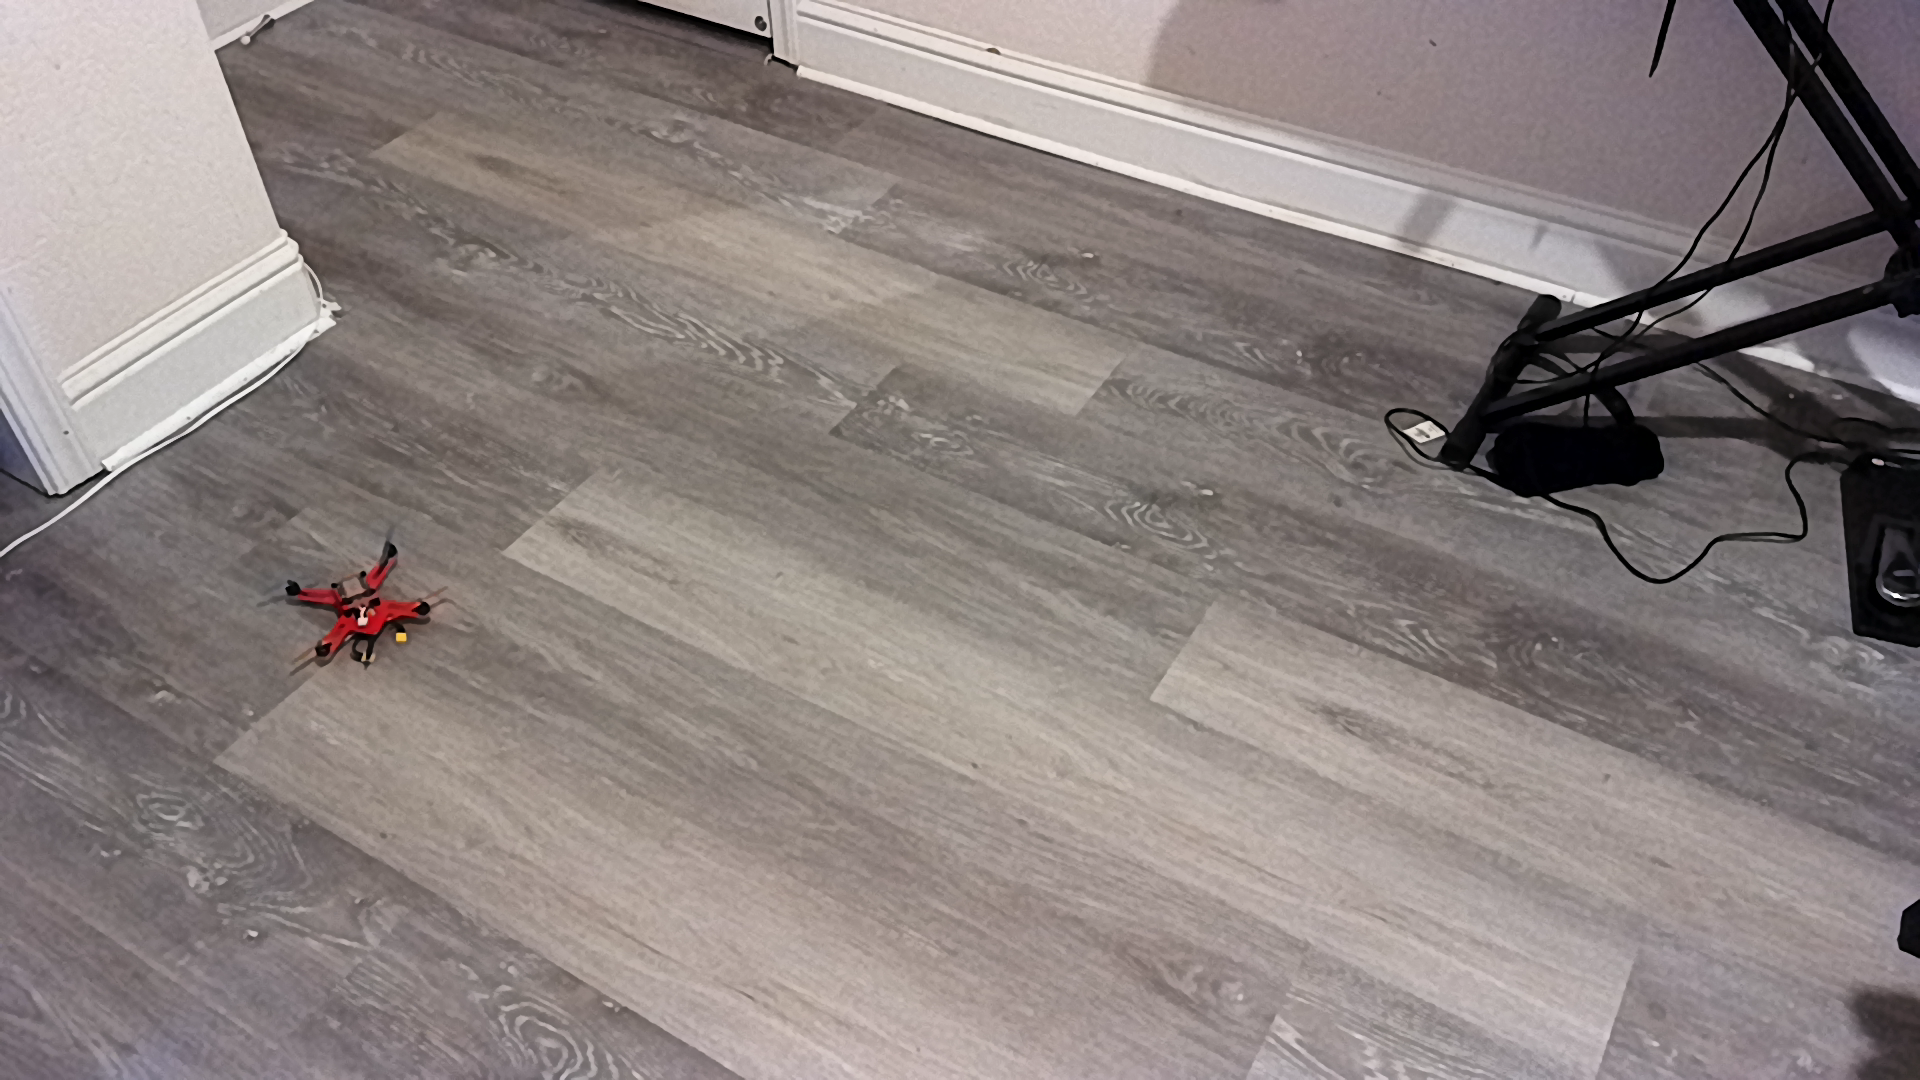drone: (239, 514, 491, 683)
